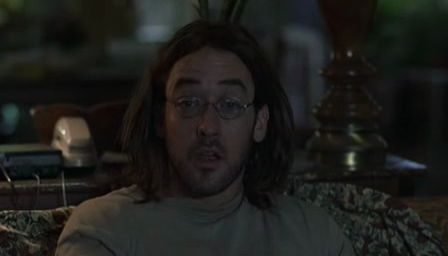cu: (1, 1, 448, 256)
face: (167, 56, 252, 196)
person: (53, 18, 357, 256)
